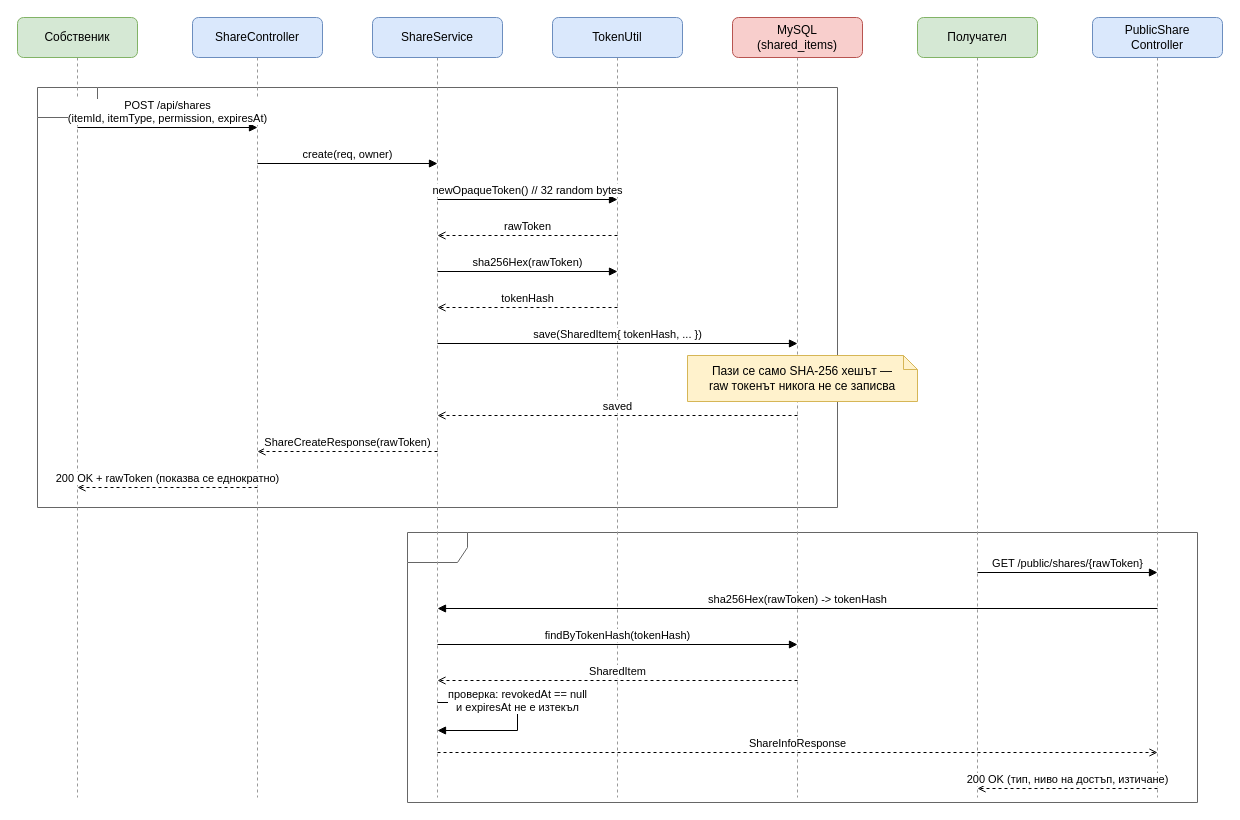
This 1240x820 diagram has some shape labels left out. Here are the shapes that lost their labels. From the top down, the box of each, then its label:
(36, 86, 838, 508): Създаване на споделяне
(406, 532, 1198, 802): Достъп до споделена връзка
